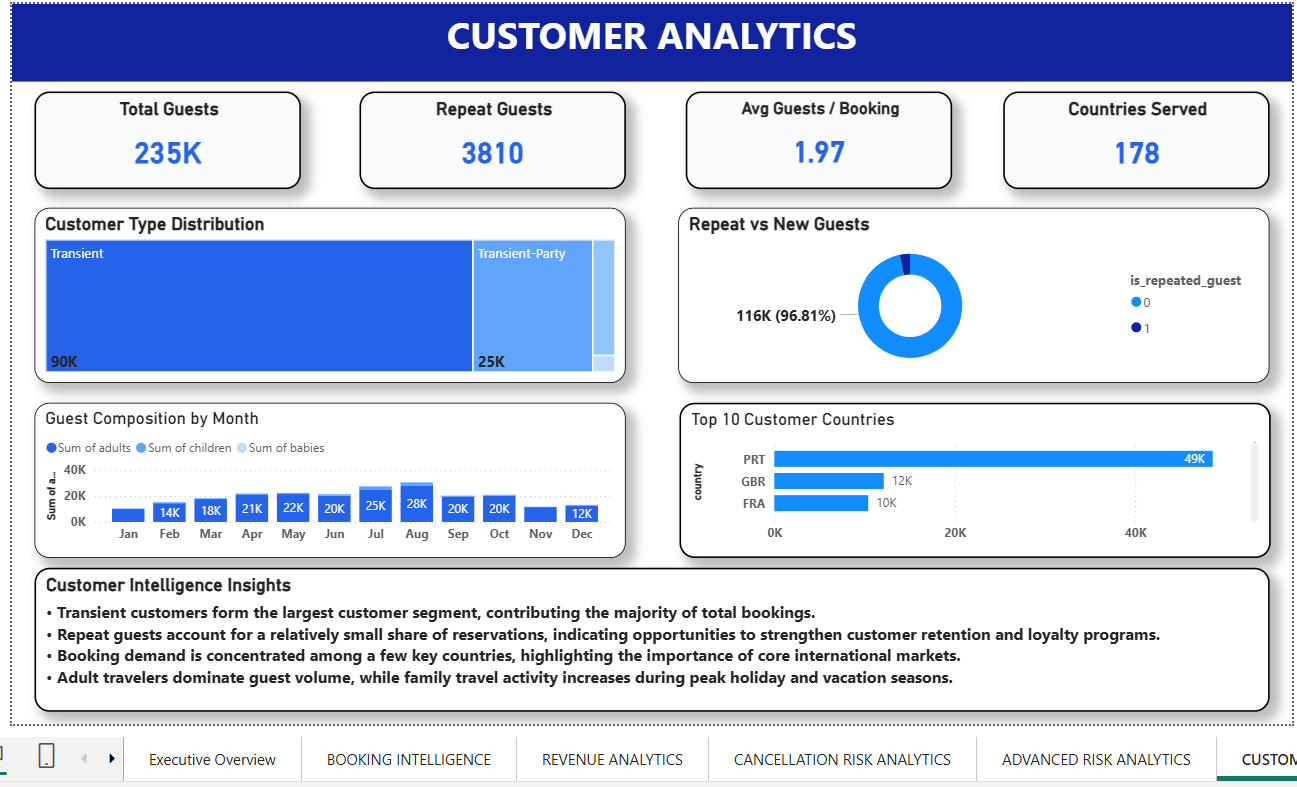

What the dashboard file says about the page in this screenshot:
{"tool":"powerbi","page":{"name":"CUSTOMER ANALYTICS","canvas":[1280,720],"ordinal":5},"visuals":[{"type":"textbox","box":[0,0,1280,77.5],"z":0},{"type":"card","title":"Avg Guests / Booking","fields":{"Values":["Avg(final_hotel_analytics_dataset.total_guests)"]},"box":[673.8,87.5,266.2,97.5],"z":1},{"type":"card","title":"Repeat Guests","fields":{"Values":["Sum(final_hotel_analytics_dataset.is_repeated_guest)"]},"box":[347.5,87.5,266.2,97.5],"z":2},{"type":"card","title":"Total Guests","fields":{"Values":["Sum(final_hotel_analytics_dataset.total_guests)"]},"box":[22.5,87.5,266.2,97.5],"z":3},{"type":"card","title":"Countries Served","fields":{"Values":["final_hotel_analytics_dataset.Countries Served"]},"box":[991.2,87.5,266.2,97.5],"z":4},{"type":"treemap","title":"Customer Type Distribution","fields":{"Group":["final_hotel_analytics_dataset.customer_type"],"Values":["final_hotel_analytics_dataset.Total Bookings"]},"box":[22.5,203.8,591.2,175],"z":5},{"type":"donutChart","title":"Repeat vs New Guests","fields":{"Category":["final_hotel_analytics_dataset.is_repeated_guest"],"Y":["final_hotel_analytics_dataset.Total Bookings"]},"box":[666.2,203.8,591.2,175],"z":6},{"type":"columnChart","title":"Guest Composition by Month","fields":{"Category":["final_hotel_analytics_dataset.Month Name"],"Y":["Sum(final_hotel_analytics_dataset.adults)","Sum(final_hotel_analytics_dataset.children)","Sum(final_hotel_analytics_dataset.babies)"]},"box":[22.5,398.8,591.2,155],"z":7},{"type":"clusteredBarChart","title":"Top 10 Customer Countries","fields":{"Category":["final_hotel_analytics_dataset.country"],"Y":["final_hotel_analytics_dataset.Total Bookings"]},"box":[667.5,398.8,591.2,155],"z":8},{"type":"textbox","title":"Customer Intelligence Insights","box":[22.5,563.8,1235,143.8],"z":9}]}

Visuals, with their boxes in screenshot pixels (x1, y1, x2, y2):
textbox: [10, 0, 1289, 77]
"Avg Guests / Booking" card: [683, 87, 949, 185]
"Repeat Guests" card: [357, 87, 623, 185]
"Total Guests" card: [33, 87, 299, 185]
"Countries Served" card: [1001, 87, 1267, 185]
"Customer Type Distribution" treemap: [33, 204, 623, 379]
"Repeat vs New Guests" donutChart: [676, 204, 1267, 379]
"Guest Composition by Month" columnChart: [33, 399, 623, 553]
"Top 10 Customer Countries" clusteredBarChart: [677, 399, 1268, 553]
"Customer Intelligence Insights" textbox: [33, 563, 1267, 707]
